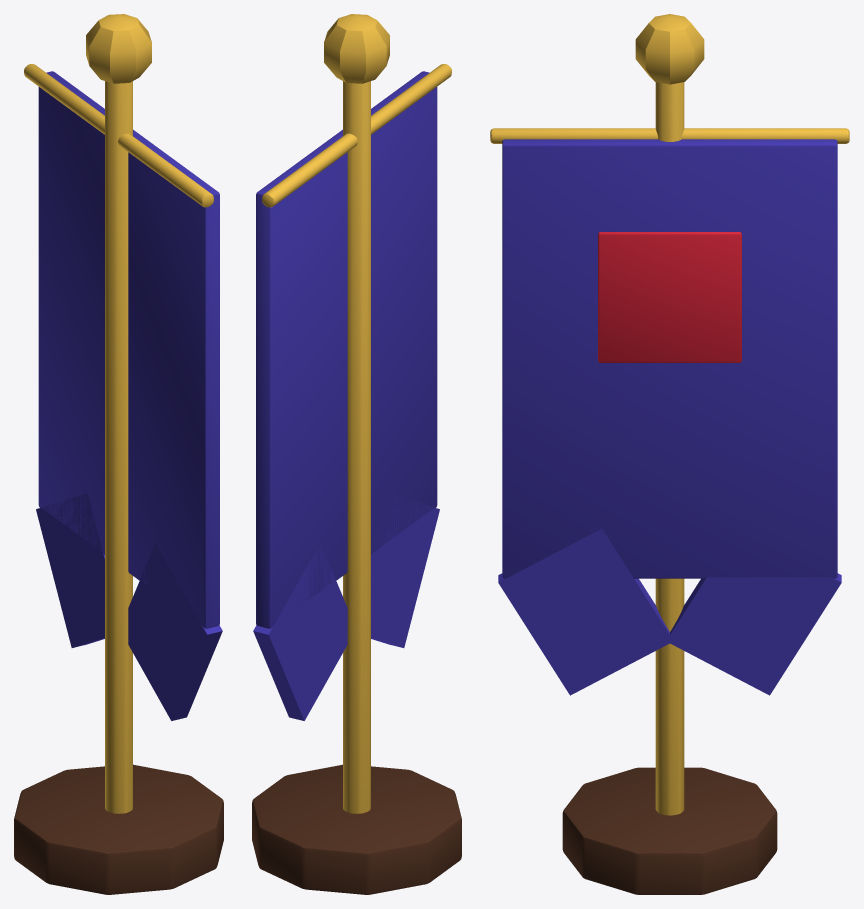
Rendered from MidRoyal.fbx.
The picture shows the model from 3 angles, left to right: view 1: azimuth 30°, elevation 25°; view 2: azimuth 150°, elevation 25°; view 3: azimuth 270°, elevation 25°; orthographic projection.
Visible parts, largest first — view 1: MidRoyal; view 2: MidRoyal; view 3: MidRoyal.
Part boxes in pixels (x1,y1,x2,y2): MidRoyal: (14,14,223,894); MidRoyal: (252,14,461,894); MidRoyal: (490,14,849,894).
Bounding box in the file's own units: 171 × 770 × 300.
